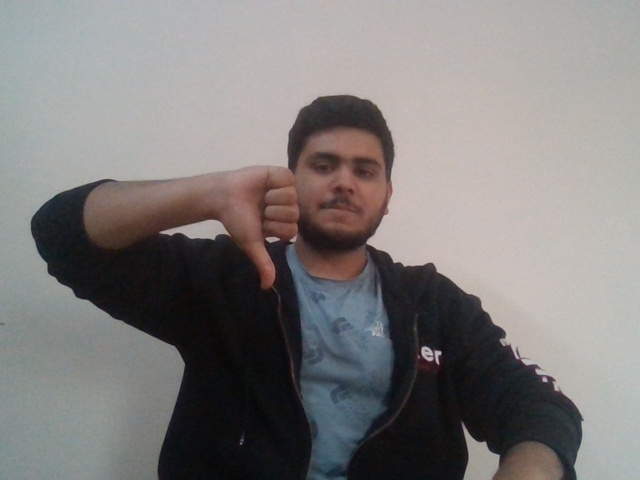No: (213, 152, 304, 290)
